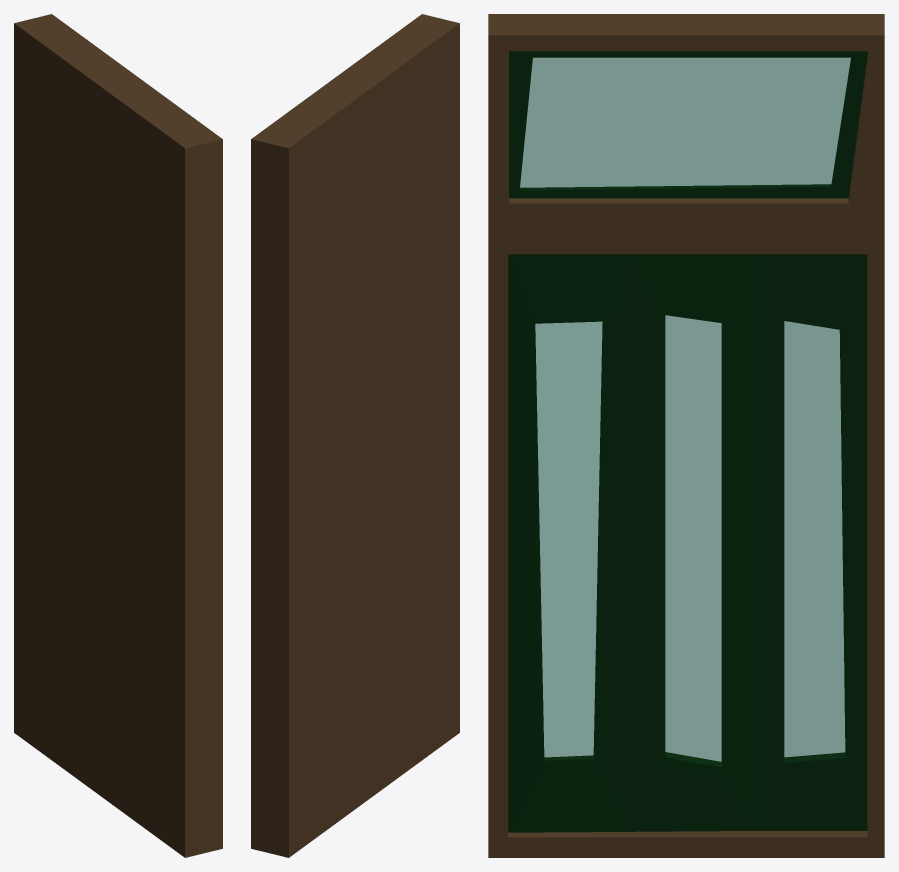
The model's file is Door12.fbx.
3 renders of one model, left to right at view 1: azimuth 30°, elevation 25°; view 2: azimuth 150°, elevation 25°; view 3: azimuth 270°, elevation 25°, orthographic. The views are drawn at different scales.
Parts seen in each view (by area): view 1: Cube.047; view 2: Cube.047; view 3: Cube.047.
Part boxes in pixels (x1,y1,x2,y2): Cube.047: [14, 14, 222, 857]; Cube.047: [251, 14, 459, 857]; Cube.047: [488, 14, 884, 857].
Size of the model in its own units: 14.57 by 261 by 114.
